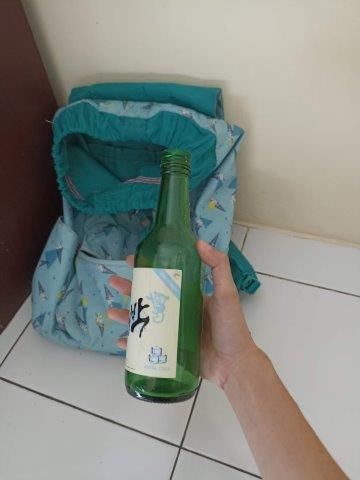botolkaca: (125, 150, 201, 401)
